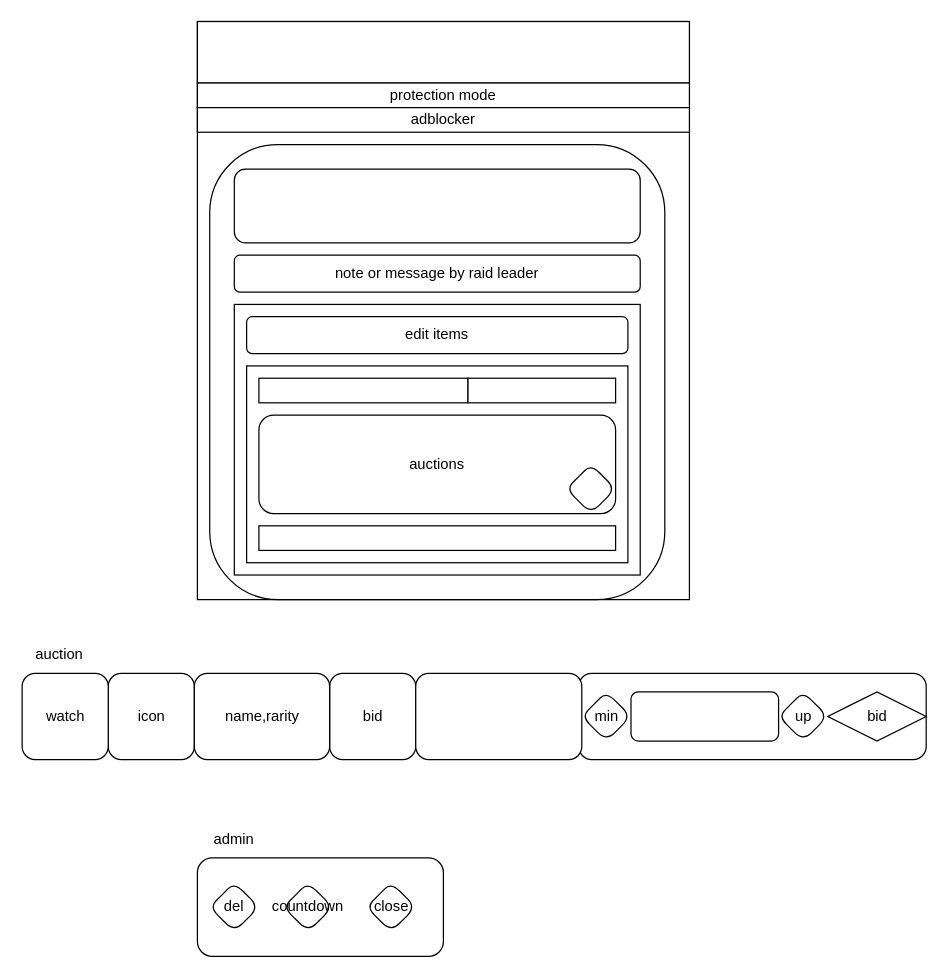
Some shapes in this 947 by 978 pixel diagram are drawn without their labels. Here are the shapes that lost their labels. From the top down, the centre of each, then its label:
point 442,51: [logo] [live updates] about,changelog,contact,stats,resources
point 436,205: session details: minIncrement, bidDuration, countdown, minBid, allowOS
point 363,390: search
point 541,390: filter
point 590,488: top
point 437,537: total items, filtered, your bid total, total pot, payout
point 498,716: bidder
point 704,716: pending bid
